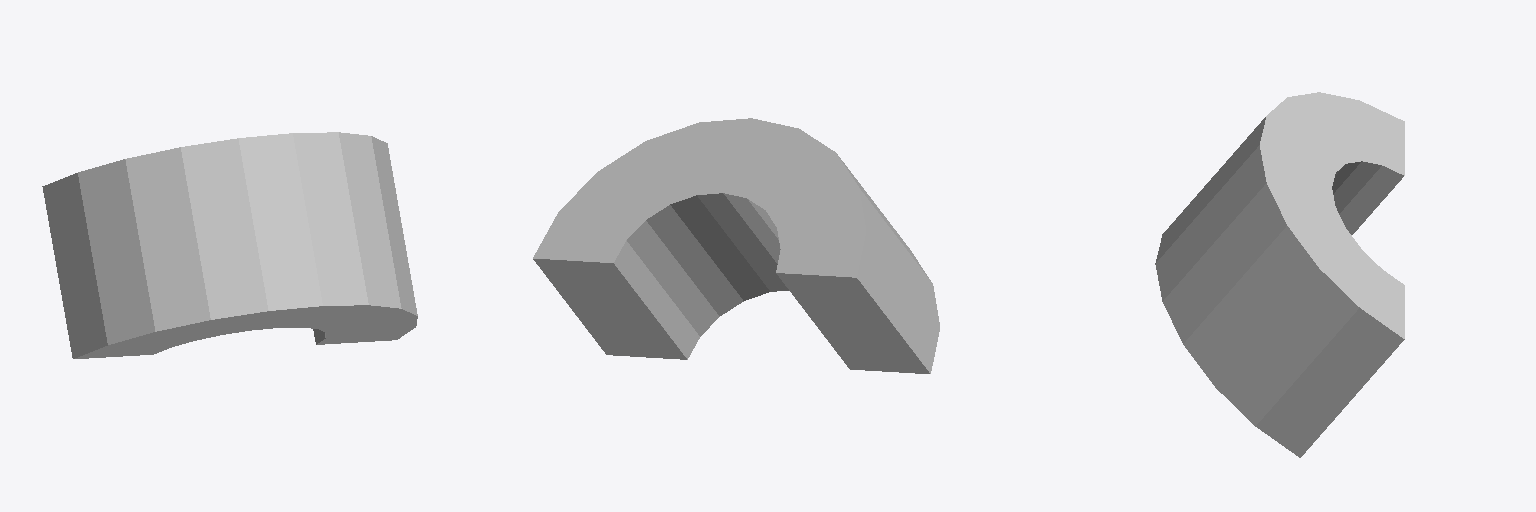
File: leftHand.obj
The picture shows the model from 3 angles: view 1: azimuth 30°, elevation 25°; view 2: azimuth 150°, elevation 25°; view 3: azimuth 270°, elevation 25°; orthographic projection.
Parts seen in each view (by area): view 1: pPipe1 arm1 pTorso; view 2: pPipe1 arm1 pTorso; view 3: pPipe1 arm1 pTorso.
Part boxes in pixels (x1,y1,x2,y2): pPipe1 arm1 pTorso: (42, 132, 417, 358); pPipe1 arm1 pTorso: (533, 118, 939, 373); pPipe1 arm1 pTorso: (1155, 92, 1404, 457).
Size of the model in its own units: 4.06 by 2.88 by 2.53.